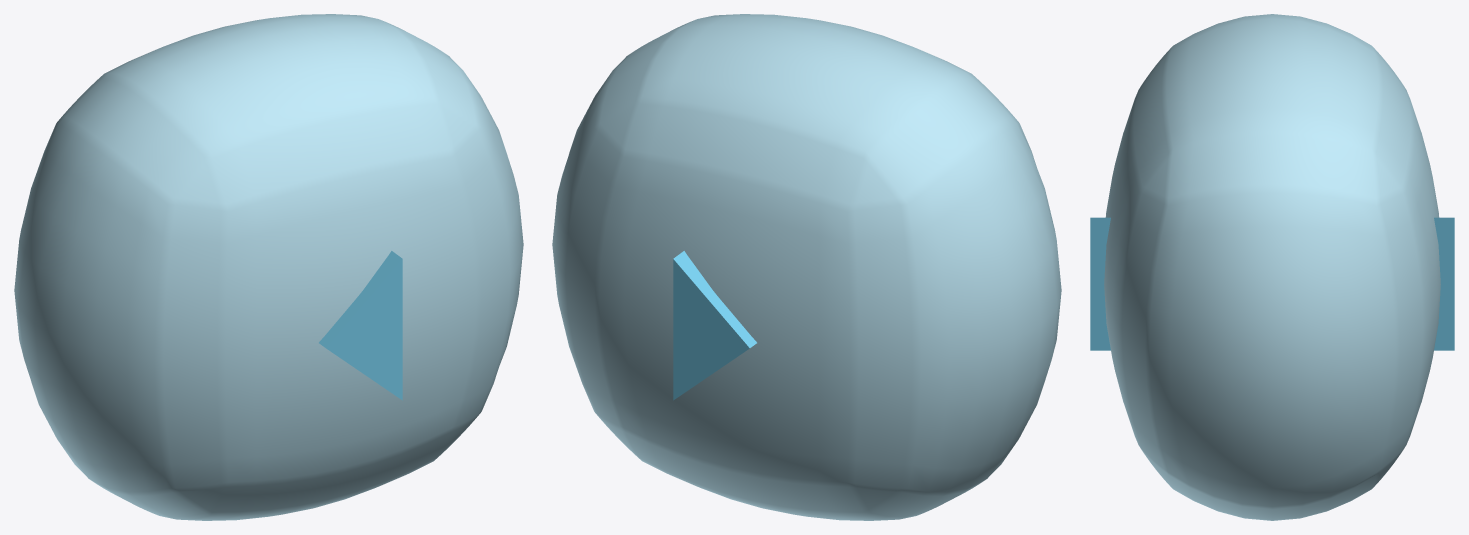
Rendered from play_button_animation_frame14.fbx.
3 views of the same model, side by side, from view 1: azimuth 30°, elevation 25°; view 2: azimuth 150°, elevation 25°; view 3: azimuth 270°, elevation 25° (orthographic). The views are drawn at different scales.
Parts seen in each view (by area): view 1: Button, Triangle; view 2: Button, Triangle; view 3: Button, Triangle.
Boxes of the visible parts, x1,y1,x2,y2 form: Button: (14, 14, 523, 520); Triangle: (319, 251, 402, 400); Button: (552, 14, 1061, 520); Triangle: (673, 251, 756, 400); Button: (1104, 14, 1440, 520); Triangle: (1090, 217, 1454, 350).
Bounding box in the file's own units: 341 × 322 × 245.
